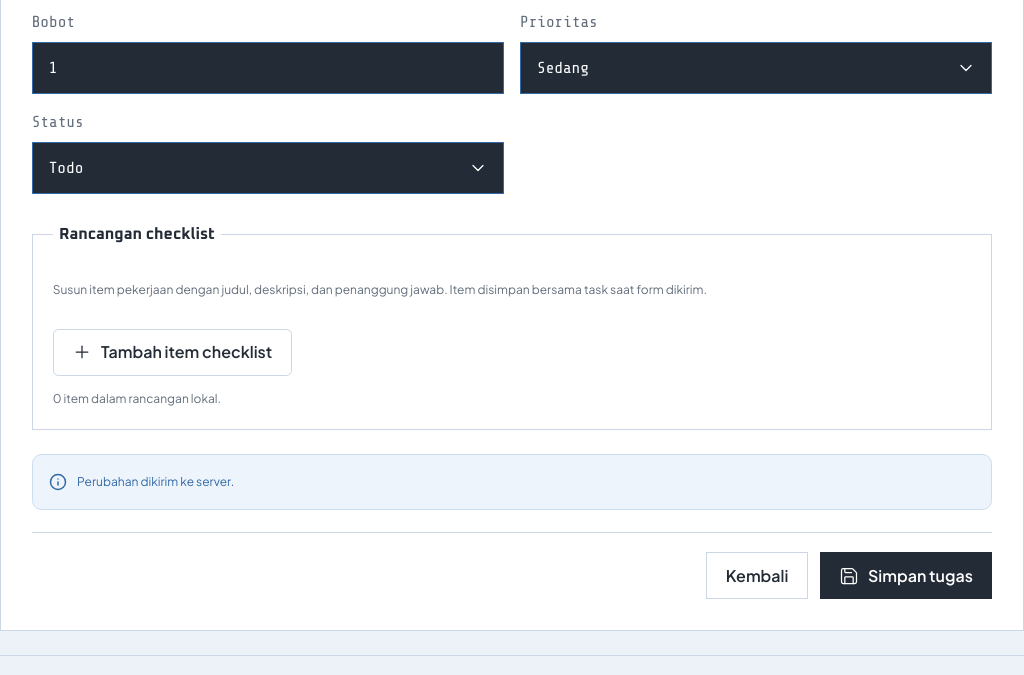
Test case: menyusun checklist draft tanpa status selesai atau progres sebelum disimpan
(page scrolled)
Click the button "Tambah item checklist" at (172, 352), box [53,329,292,376]
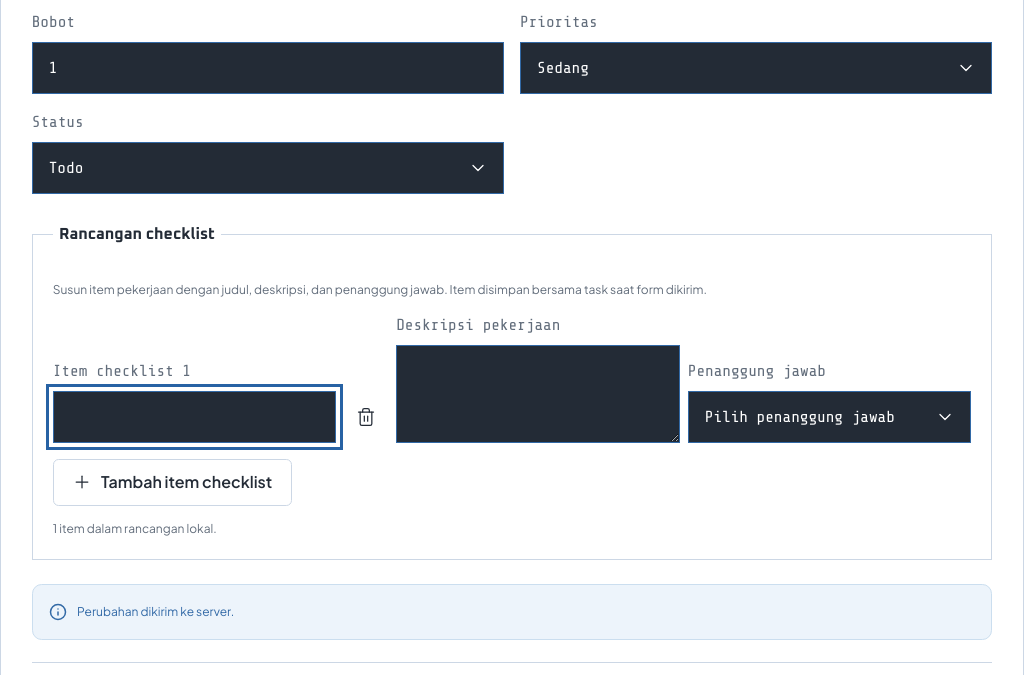
Type "Teks yang dimasukkan pengguna" into the field labelled "Item checklist 1" at (194, 417), box [53,391,336,443]
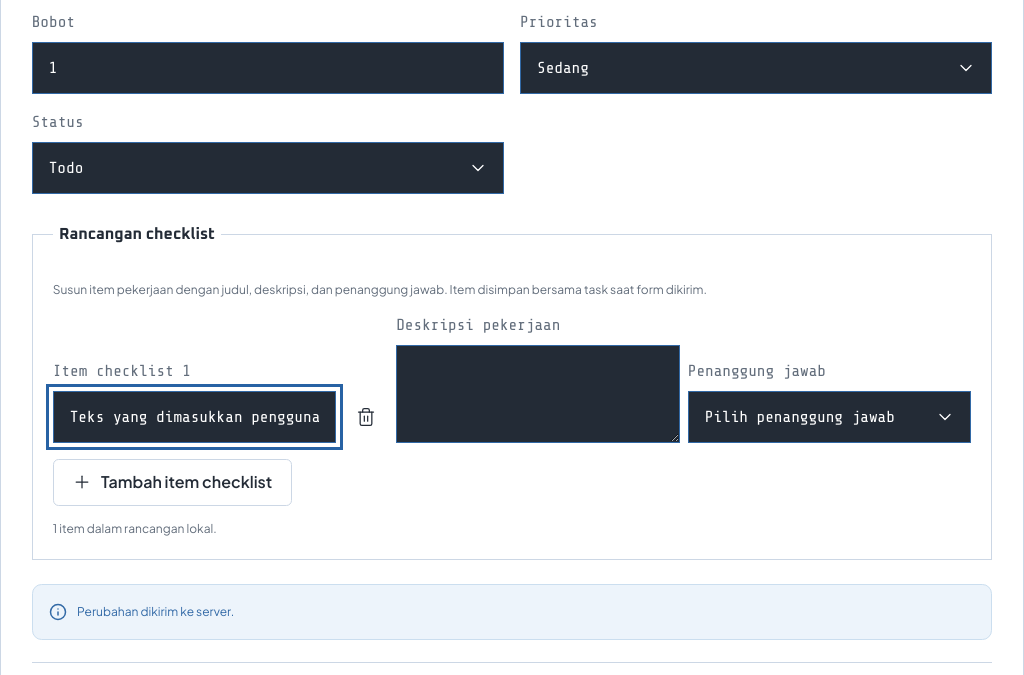
Click the button "Tambah item checklist" at (172, 482), box [53,459,292,506]
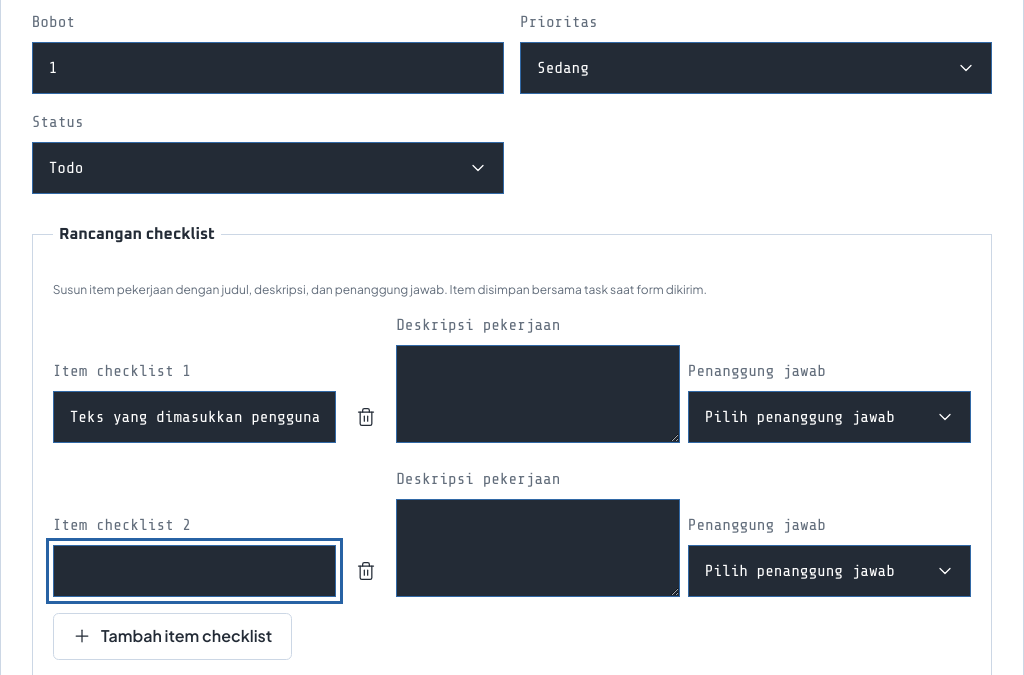
Click the button named "Hapus item checklist 2" at (366, 571), box [344,545,388,597]
(page scrolled)
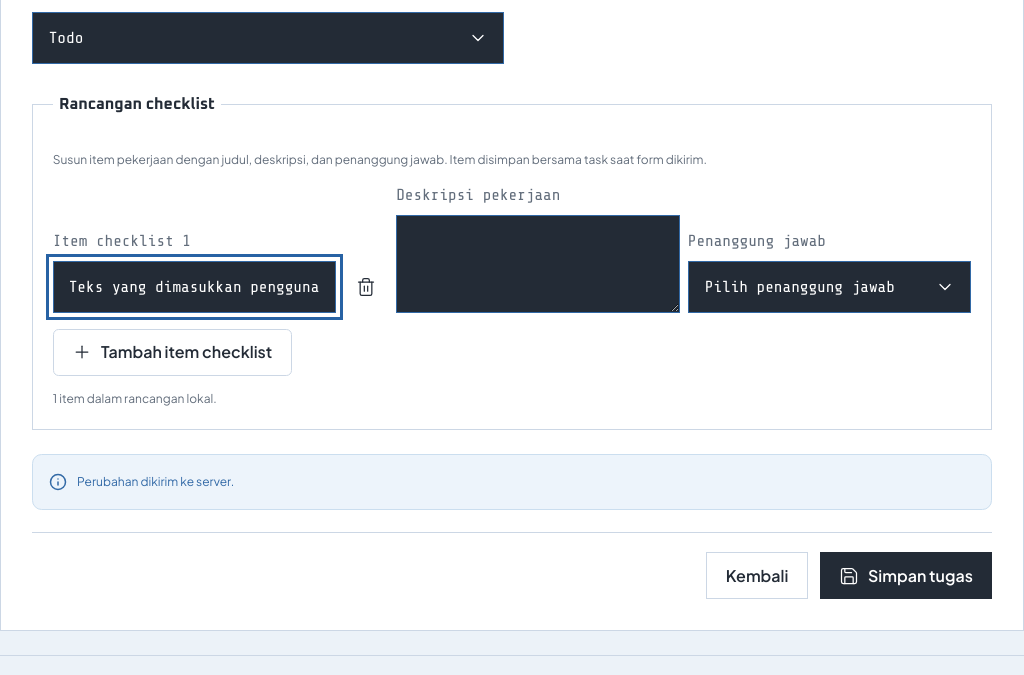
Expected: the button "Simpan tugas" is enabled, [820,552,992,599]
Now the message reads "1 item dalam rancangan lokal.", box [53,390,217,406]
